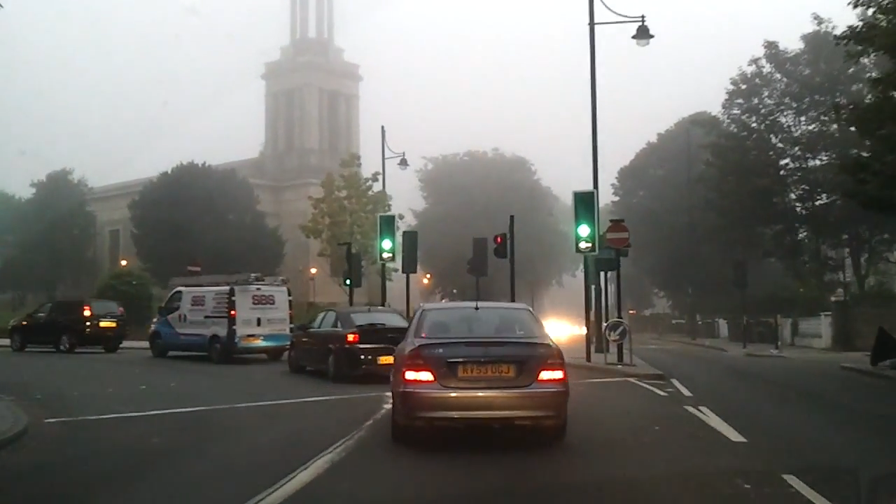bus: (144, 282, 295, 362)
car: (389, 301, 572, 448), (283, 303, 419, 388), (1, 296, 128, 355)
